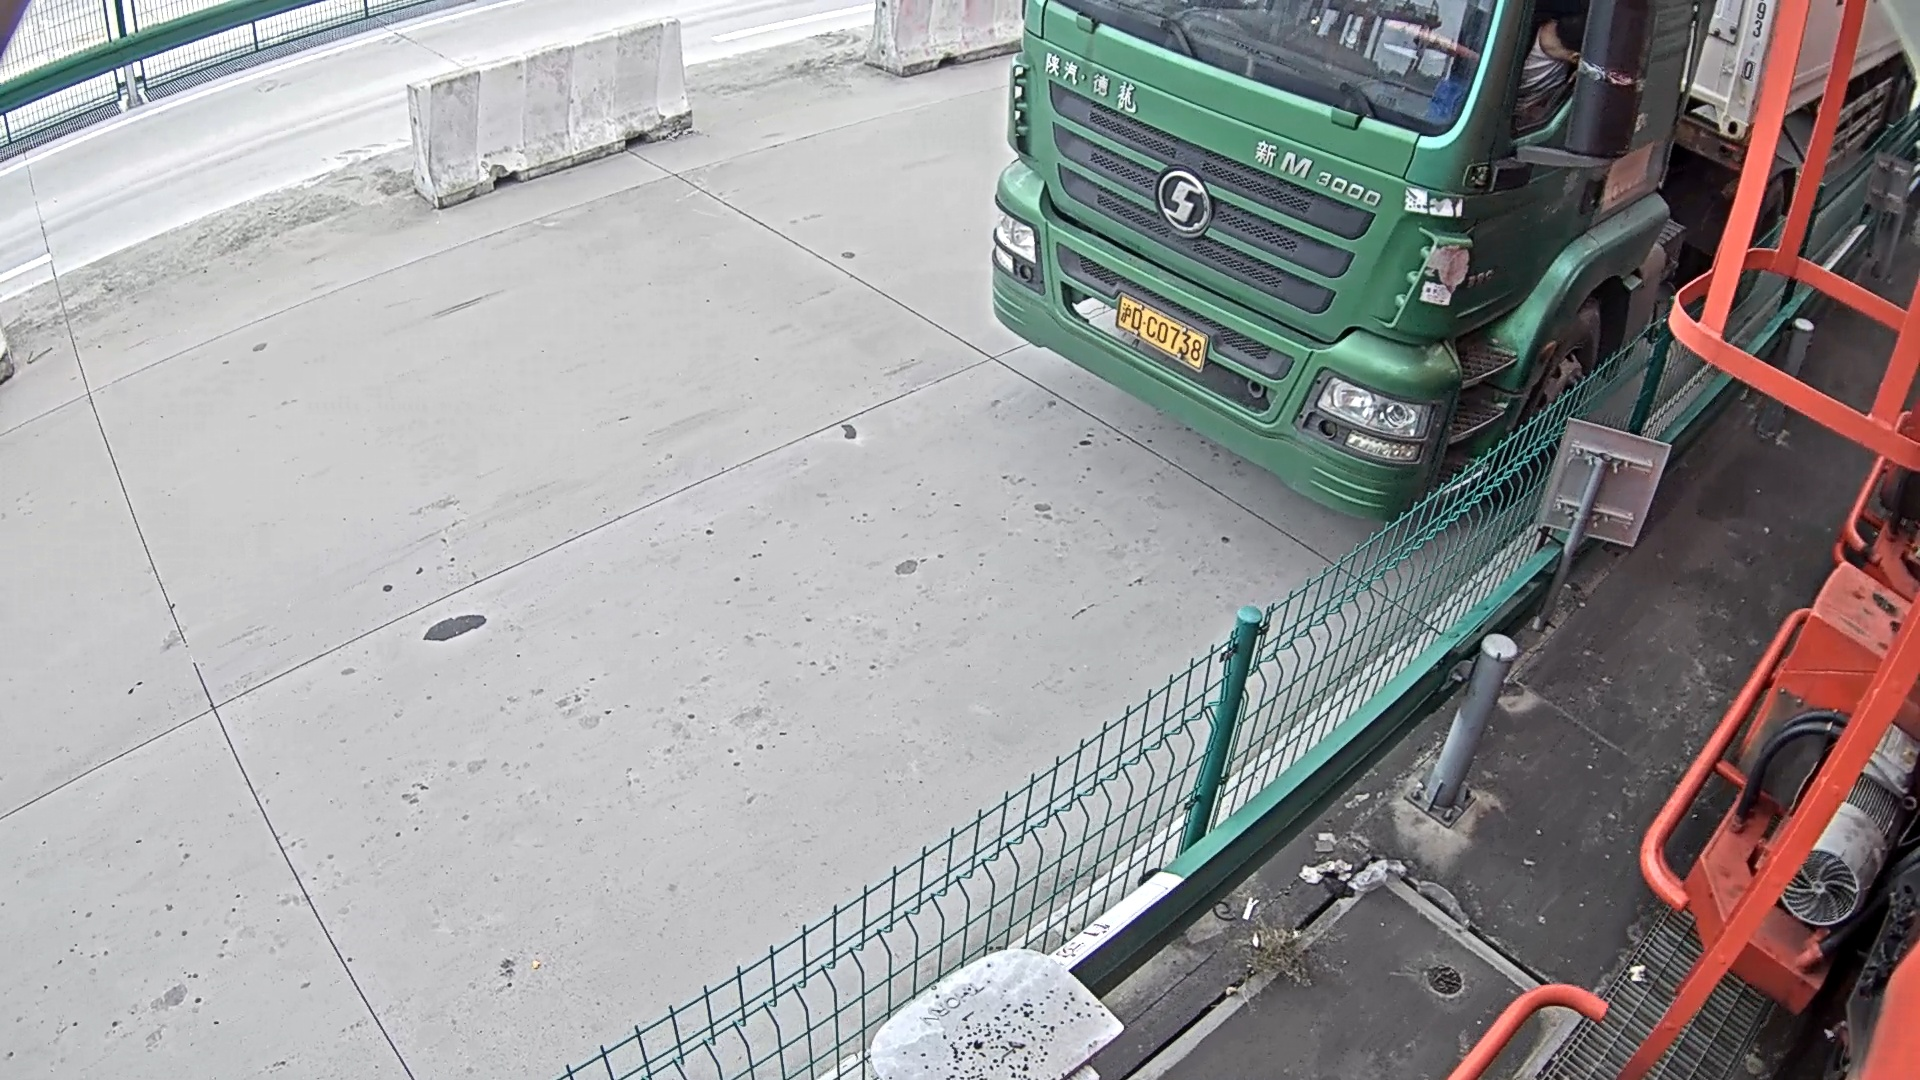head: (1010, 1, 1707, 528)
plate: (1121, 295, 1204, 375)
